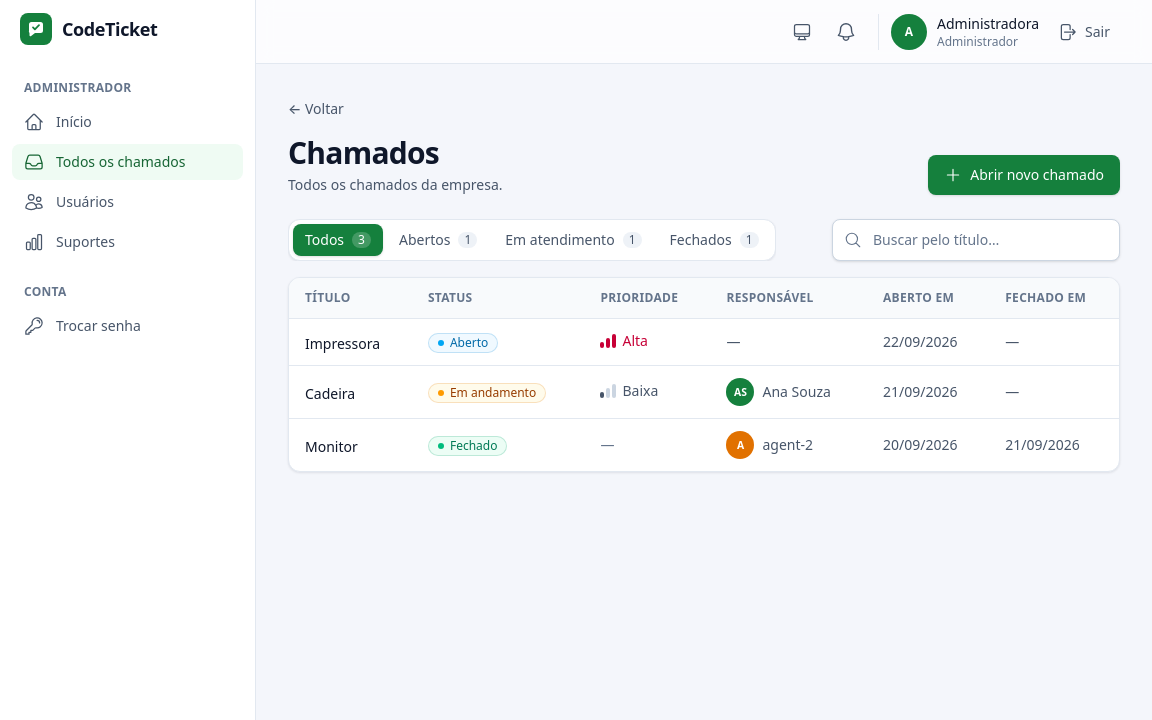
TicketsView › says why the list is empty when nothing matches the search
Expected: the link "Impressora" is shown, [305,334,380,353]
Step 1. Type "teclado" into the search field named "Buscar chamados pelo título" → (976, 240), box [832,219,1120,261]
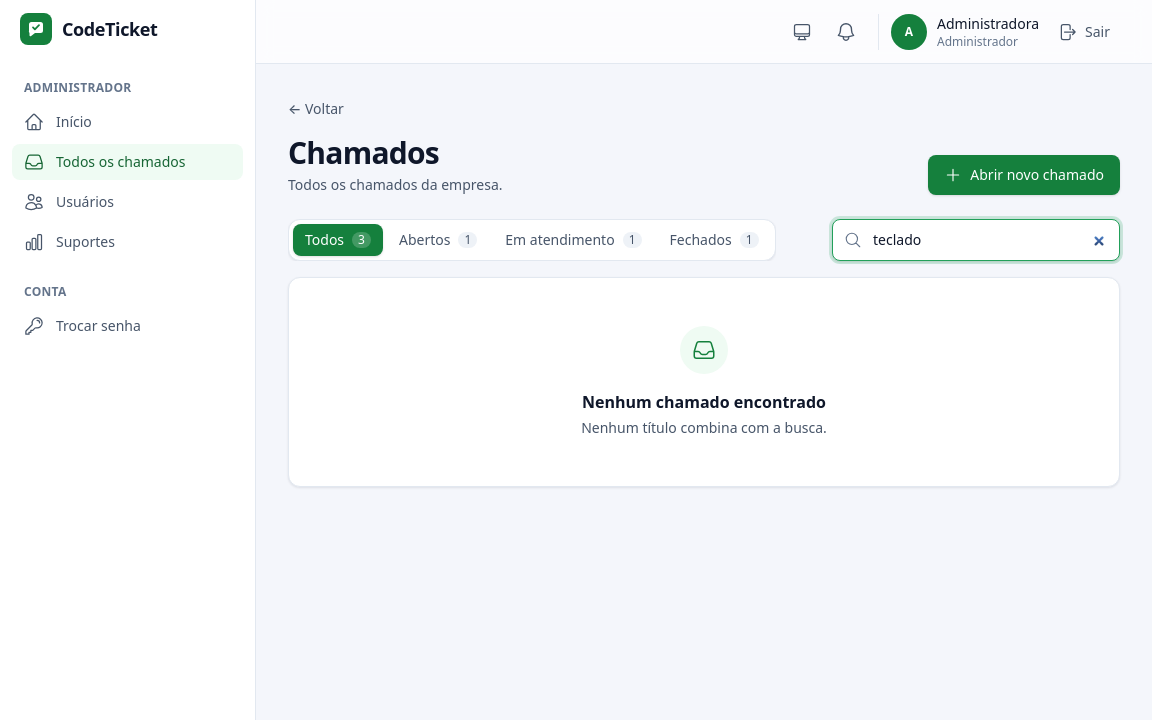
Expected: the text "Nenhum chamado encontrado" is shown, [582,390,826,414]
Expected: the text "Nenhum título combina com a busca." is shown, [581,418,827,438]
